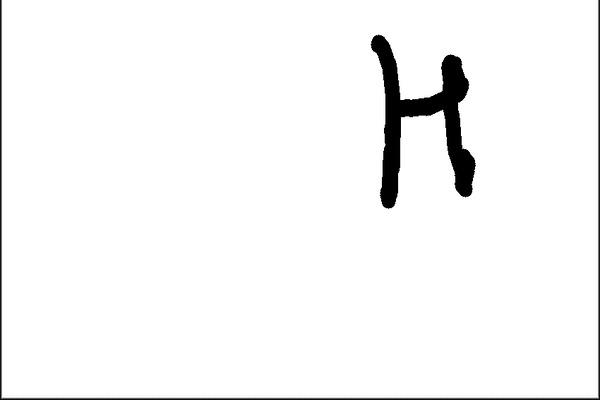H: (358, 27, 482, 210)
